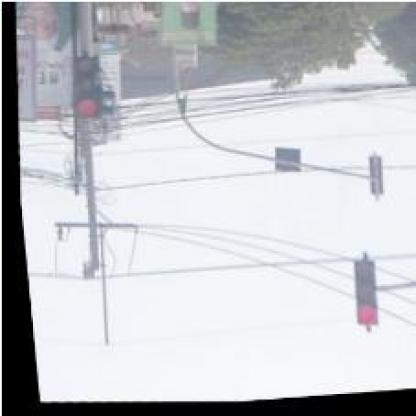red: (341, 260, 377, 334), (67, 52, 102, 120)
